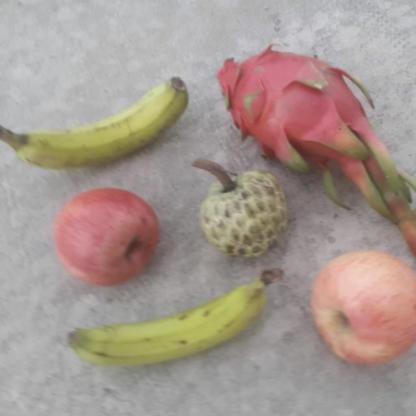annona: (201, 165, 290, 263)
apple: (301, 245, 415, 371), (45, 182, 162, 290)
banana: (52, 262, 284, 378), (0, 77, 191, 171)
pitaya: (215, 43, 382, 171)
